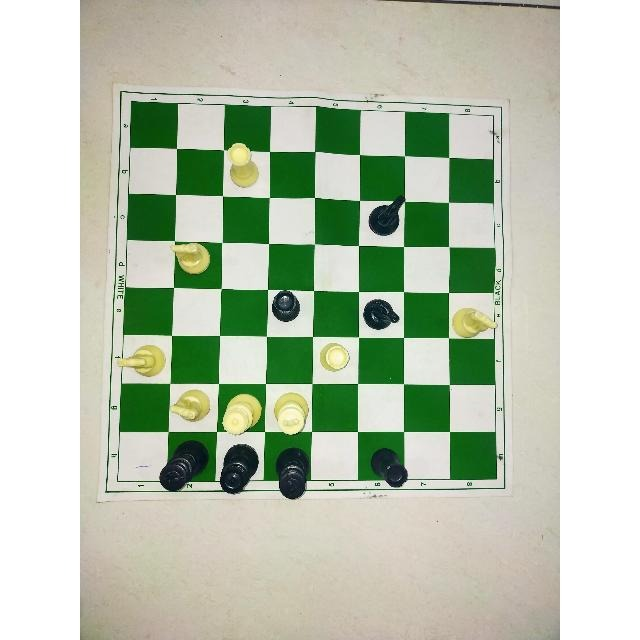black-king: (151, 435, 212, 497), (154, 435, 213, 496), (268, 446, 320, 502), (271, 442, 314, 504)
black-knight: (360, 181, 412, 242), (363, 188, 410, 241), (357, 287, 406, 337), (360, 291, 404, 337)
black-queen: (214, 436, 262, 500), (218, 437, 262, 501)
black-rook: (368, 437, 418, 491), (367, 438, 415, 491), (264, 283, 310, 332), (266, 284, 308, 333)
white-king: (266, 383, 311, 444)
white-knight: (112, 335, 174, 383), (266, 385, 316, 443), (447, 295, 501, 344), (450, 294, 507, 340), (165, 384, 217, 432), (116, 339, 171, 383), (167, 235, 216, 283), (167, 381, 216, 429), (169, 233, 217, 282)
white-queen: (219, 382, 265, 440), (216, 391, 264, 434)
white-rook: (219, 135, 269, 193), (222, 135, 265, 193), (314, 336, 357, 382), (315, 338, 358, 381)
